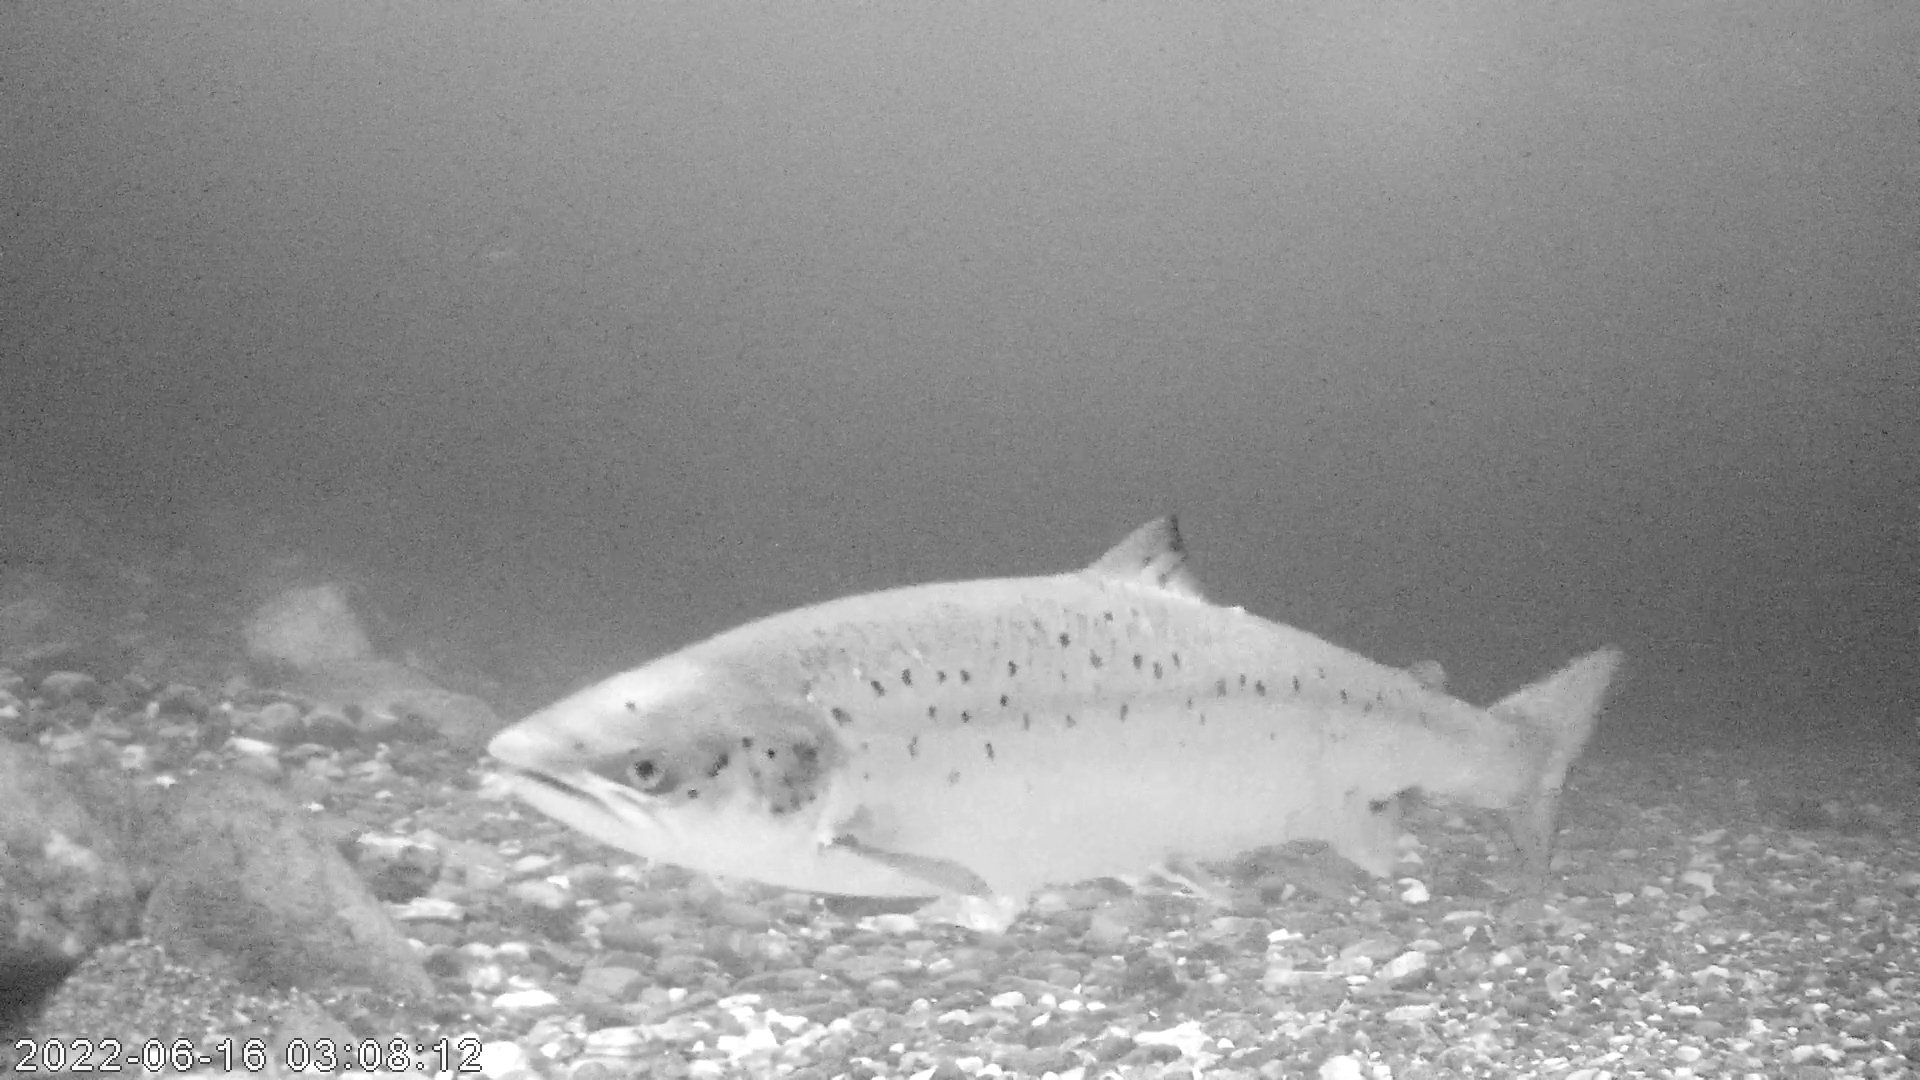salmon: (485, 510, 1621, 903)
